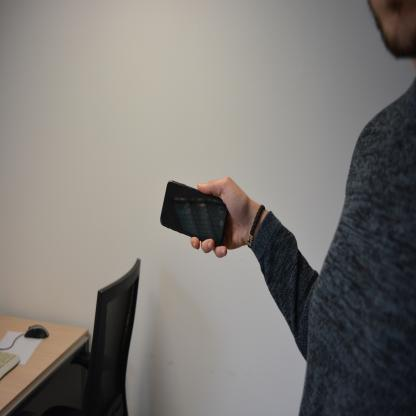smartphone: (160, 180, 228, 248)
